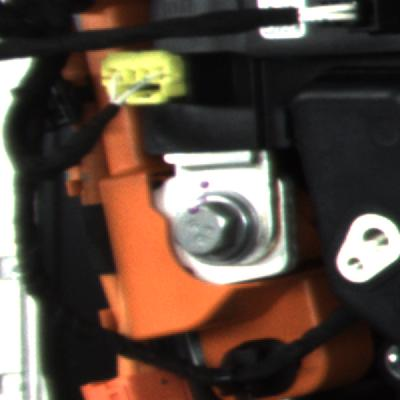nut_b: (161, 176, 272, 280)
